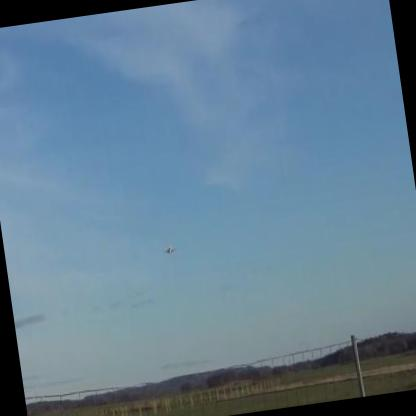plane: (163, 245, 178, 255)
